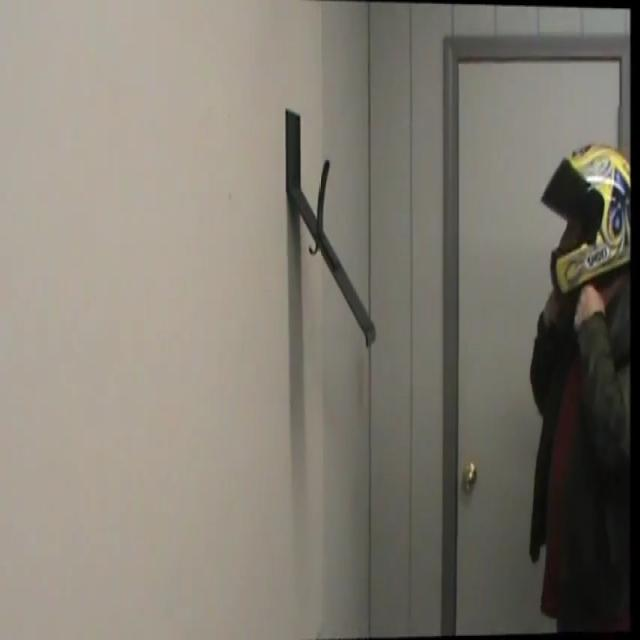Helmet_Wearer: (542, 137, 636, 300)
Jacket_Wearer: (534, 267, 640, 639)
Person: (531, 129, 636, 640)
